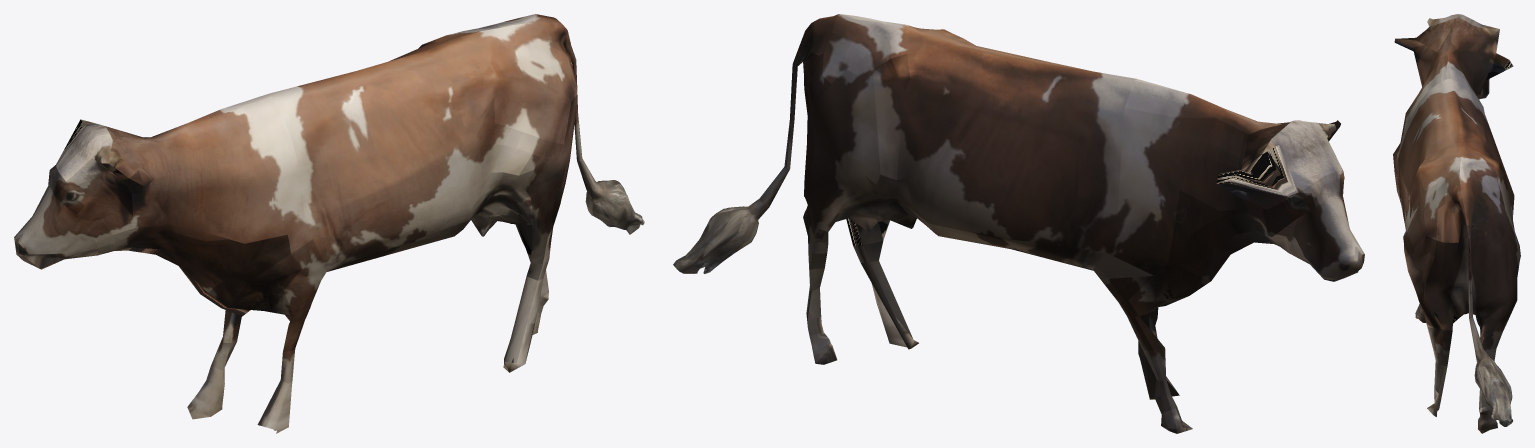
The model's file is cow.fbx.
The picture shows the model from 3 angles, left to right: view 1: azimuth 30°, elevation 25°; view 2: azimuth 150°, elevation 25°; view 3: azimuth 270°, elevation 25°; orthographic projection. The views are drawn at different scales.
Parts seen in each view (by area): view 1: Cow; view 2: Cow; view 3: Cow.
Boxes of the visible parts, x1,y1,x2,y2 form: Cow: (14, 14, 644, 433); Cow: (673, 14, 1364, 433); Cow: (1393, 14, 1520, 433).
Size of the model in its own units: 259 by 126 by 58.21.
Materials: 1 (1 with a texture image).
